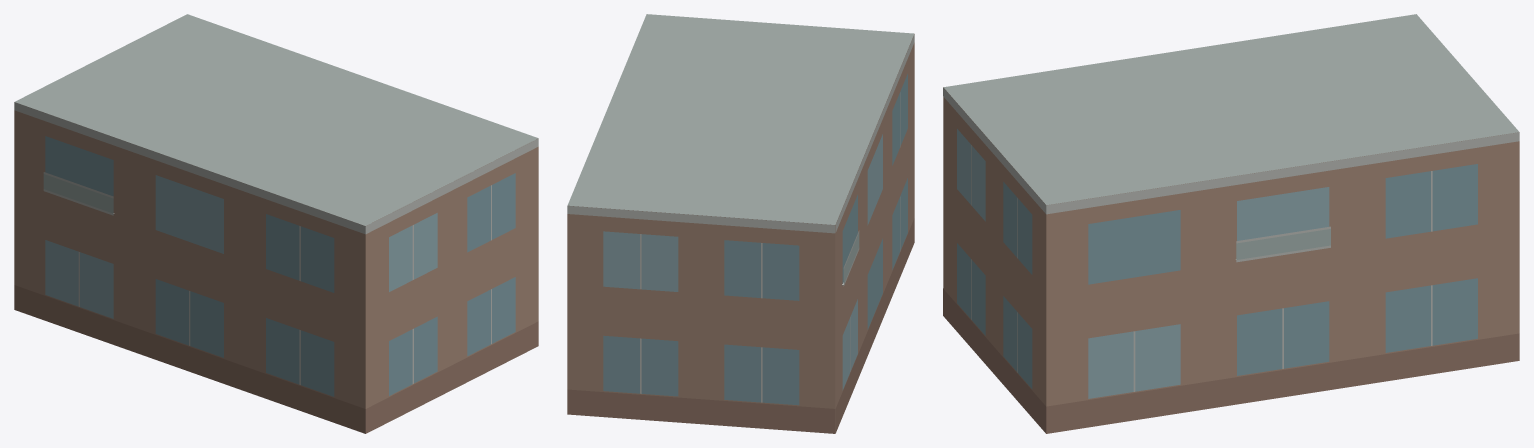
File: survey-upis-32719919.glb
3 renders of one model, left to right at view 1: azimuth 30°, elevation 25°; view 2: azimuth 150°, elevation 25°; view 3: azimuth 270°, elevation 25°, orthographic. The views are drawn at different scales.
Parts seen in each view (by area): view 1: survey-upis-32719919.tmp; view 2: survey-upis-32719919.tmp; view 3: survey-upis-32719919.tmp.
Part boxes in pixels (x1,y1,x2,y2): survey-upis-32719919.tmp: (14,14,538,433); survey-upis-32719919.tmp: (567,14,914,433); survey-upis-32719919.tmp: (943,14,1519,433).
Bounding box in the file's own units: 10.95 × 6.1 × 13.95.
